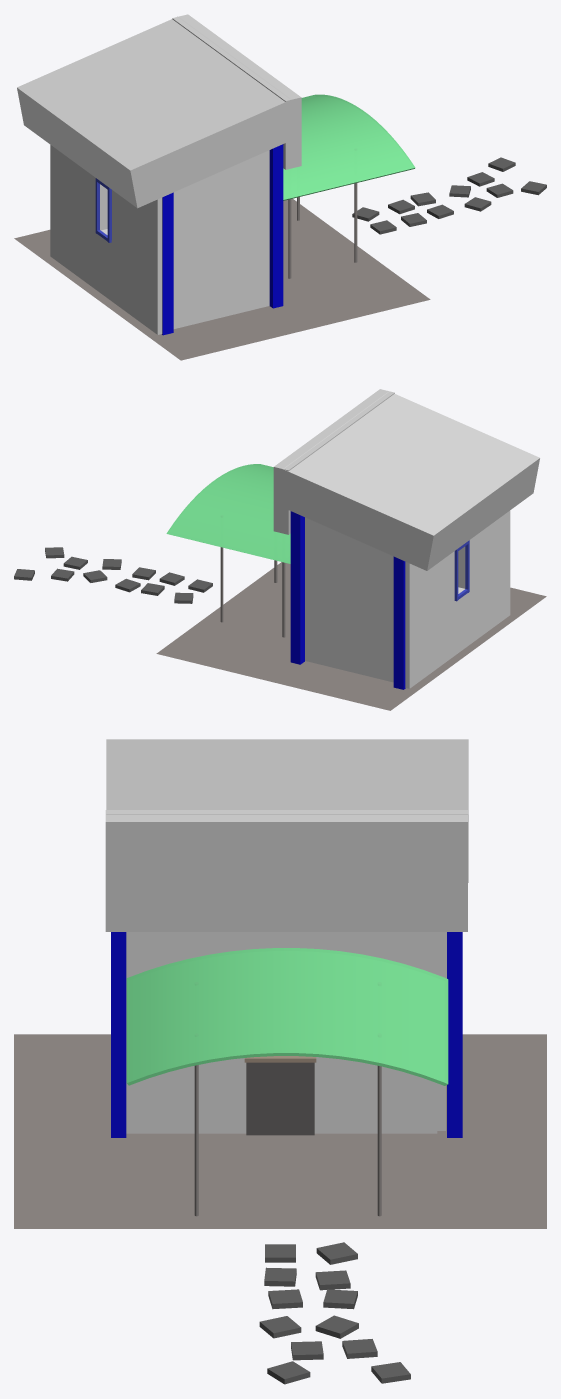
Rendered from juice_bar.fbx.
The picture shows the model from 3 angles, top to bottom: view 1: azimuth 30°, elevation 25°; view 2: azimuth 150°, elevation 25°; view 3: azimuth 270°, elevation 25°; orthographic projection. The views are drawn at different scales.
Visible parts, largest first — view 1: pCube9, pPlane1, pCube10, pCube12, pPipe3, pCube11, pCube4, pCube7; view 2: pCube9, pPlane1, pCube8, pCube12, pPipe3, pCube11, pCube5, pCube6; view 3: pPlane1, pCube11, pPipe3, pCube9, pCube21, pCube22, pCube4, pCube5, pCube8.
Boxes of the visible parts, left/top/right/bottom form: pCube9: left=17, top=16, right=291, bottom=208; pPlane1: left=14, top=198, right=430, bottom=360; pCube10: left=173, top=150, right=269, bottom=328; pCube12: left=50, top=145, right=162, bottom=334; pPipe3: left=283, top=94, right=415, bottom=200; pCube11: left=172, top=14, right=301, bottom=169; pCube4: left=269, top=144, right=283, bottom=308; pCube7: left=162, top=192, right=173, bottom=335; pCube9: left=276, top=391, right=539, bottom=570; pPlane1: left=156, top=562, right=546, bottom=710; pCube8: left=305, top=517, right=393, bottom=682; pCube12: left=405, top=510, right=510, bottom=688; pPipe3: left=166, top=464, right=290, bottom=563; pCube11: left=273, top=389, right=394, bottom=534; pCube5: left=290, top=511, right=304, bottom=664; pCube6: left=393, top=556, right=405, bottom=689; pPlane1: left=14, top=1034, right=546, bottom=1228; pCube11: left=105, top=810, right=467, bottom=931; pPipe3: left=126, top=948, right=448, bottom=1085; pCube9: left=106, top=739, right=468, bottom=882; pCube21: left=126, top=932, right=437, bottom=1133; pCube22: left=246, top=1062, right=314, bottom=1135; pCube4: left=111, top=932, right=126, bottom=1137; pCube5: left=447, top=932, right=462, bottom=1137; pCube8: left=437, top=932, right=445, bottom=1130.
Size of the model in its own units: 156 by 65.47 by 95.73.
